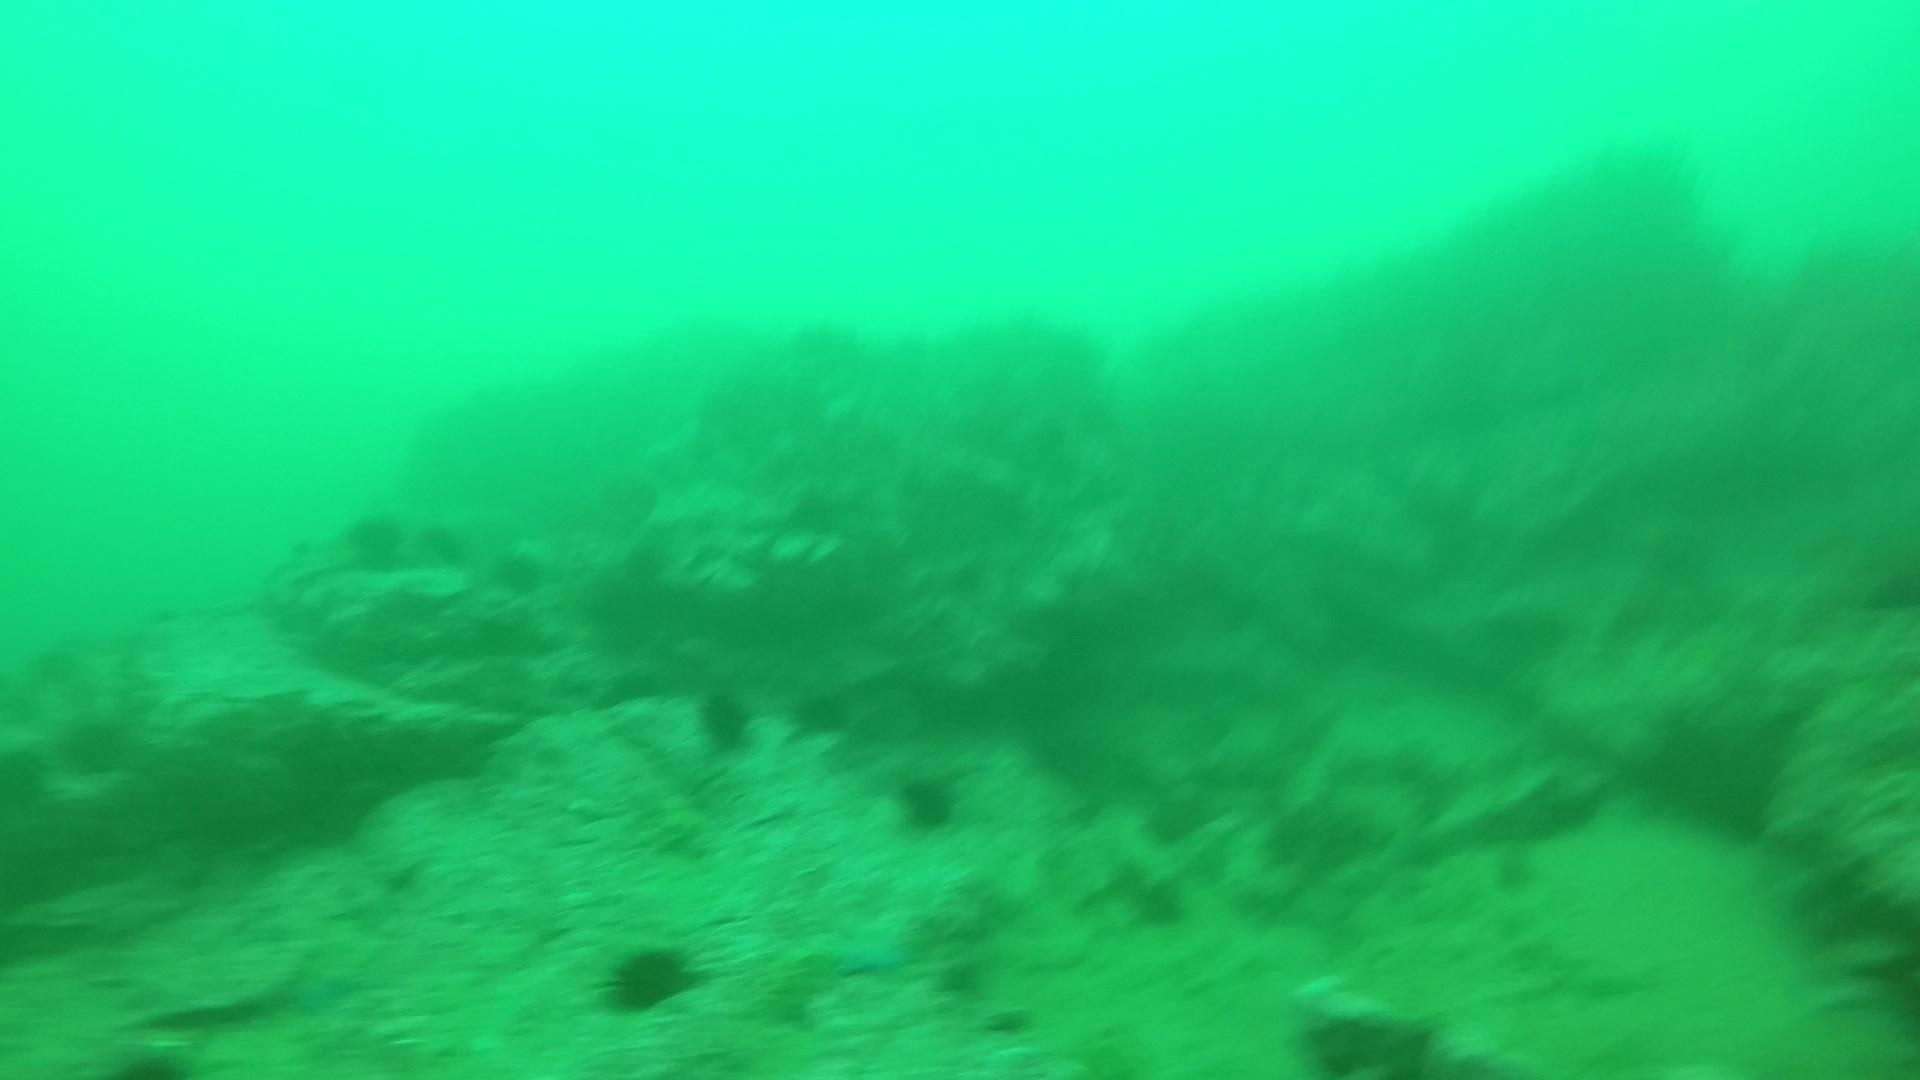echinus: (595, 935, 705, 1021), (887, 765, 968, 840), (687, 682, 764, 760), (338, 504, 417, 578), (783, 680, 857, 745), (414, 510, 473, 571), (491, 549, 542, 597), (622, 545, 674, 593)
starfish: (820, 913, 922, 980)
